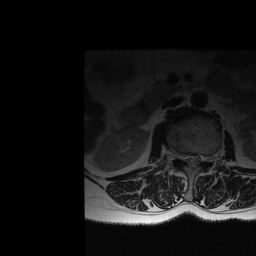CCS_stenosis: (189, 149, 196, 172)
LFS_normal: (202, 149, 208, 165)
LLS_normal: (196, 149, 202, 170)
RFS_normal: (177, 149, 183, 164)
RLS_normal: (183, 149, 188, 169)
